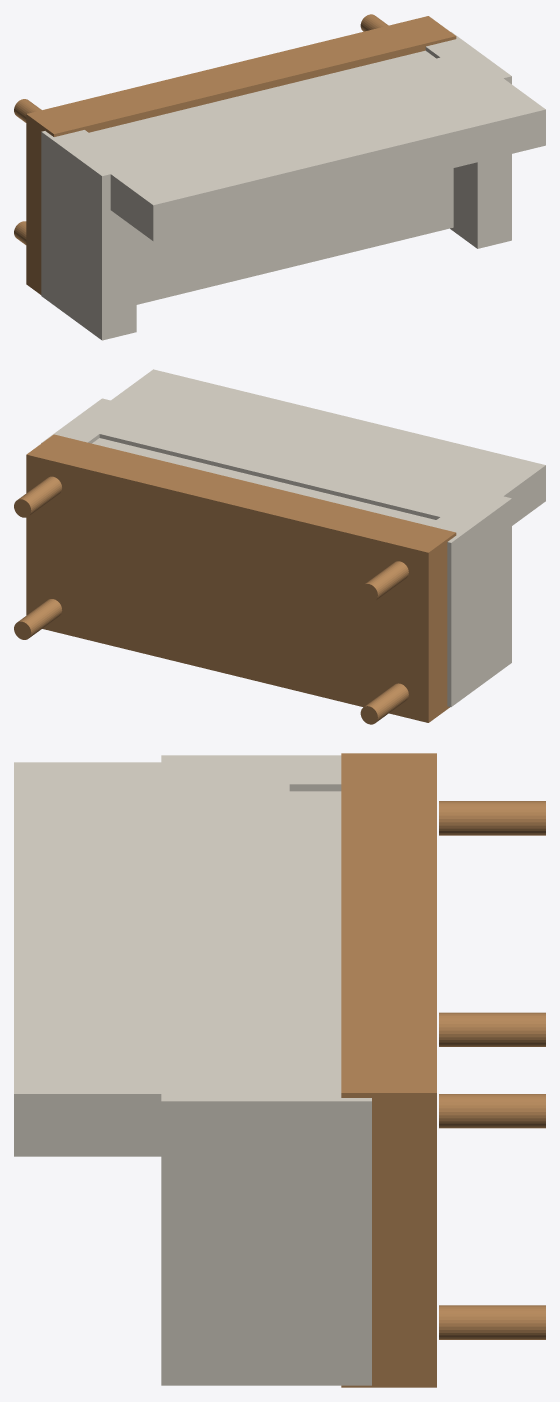
The model's file is sofa.glb.
3 views of the same model, one above another, from view 1: azimuth 30°, elevation 25°; view 2: azimuth 150°, elevation 25°; view 3: azimuth 270°, elevation 25° (orthographic). The views are drawn at different scales.
Parts seen in each view (by area): view 1: Back, Seat, Base, ArmL, ArmR, world; view 2: Base, Back, ArmL, world, Seat, ArmR, Leg; view 3: Back, ArmR, Base, Seat, world, ArmL, Leg.
Boxes of the visible parts, left/top/right/bottom form: Back: left=74, top=51, right=545, bottom=241; Seat: left=89, top=50, right=453, bottom=304; Base: left=26, top=16, right=456, bottom=294; ArmL: left=41, top=130, right=136, bottom=340; ArmR: left=425, top=32, right=511, bottom=248; world: left=14, top=99, right=41, bottom=244; Base: left=26, top=434, right=456, bottom=722; Back: left=74, top=369, right=545, bottom=525; ArmL: left=429, top=490, right=511, bottom=706; world: left=14, top=561, right=408, bottom=724; Seat: left=92, top=438, right=435, bottom=525; ArmR: left=41, top=398, right=136, bottom=443; Leg: left=14, top=476, right=61, bottom=517; Back: left=14, top=762, right=289, bottom=1156; ArmR: left=161, top=1072, right=371, bottom=1385; Base: left=341, top=753, right=436, bottom=1387; Seat: left=289, top=791, right=341, bottom=1072; world: left=439, top=801, right=545, bottom=1339; ArmL: left=161, top=755, right=341, bottom=791; Leg: left=439, top=1094, right=545, bottom=1128.
Size of the model in its own units: 2.14 by 0.85 by 1.39.
